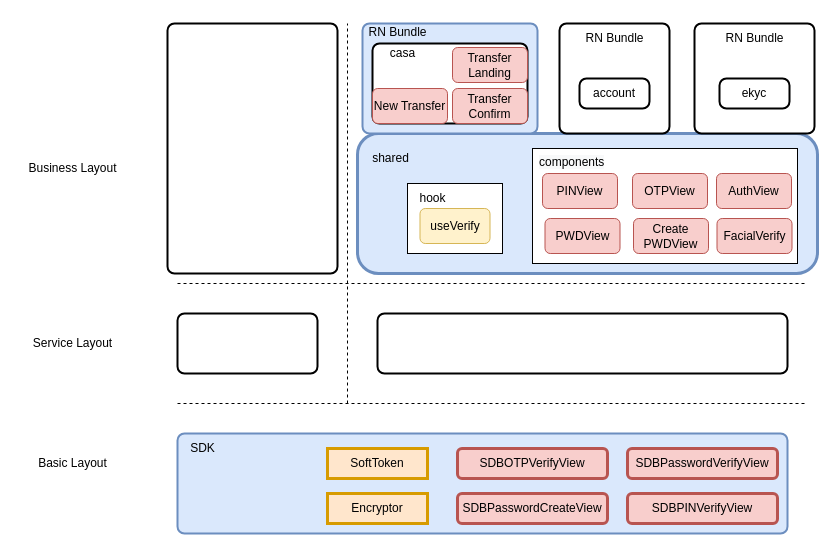
The diagram is 836 pixels wide and 551 high, and some of its shapes have lost their labels. The shapes that lost their labels are listed below. From the top down, each one's box as (x1, y1, x2, y2) in pixels, then its label:
(166, 22, 338, 274): SeaBankAppMain
(176, 312, 318, 374): Native service
(376, 312, 788, 374): RN service
